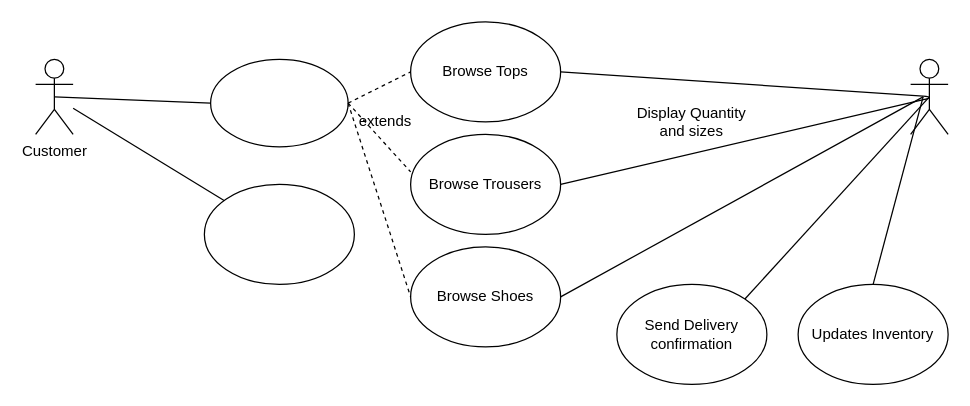
The diagram is 970 pixels wide and 406 high, and some of its shapes have lost their labels. The shapes that lost their labels are listed below. From the top down, each one's centre as x and y in pixels, then its label:
At point (278, 102): "Browse Items".
At point (928, 96): "Store".
At point (278, 233): "order Item".
